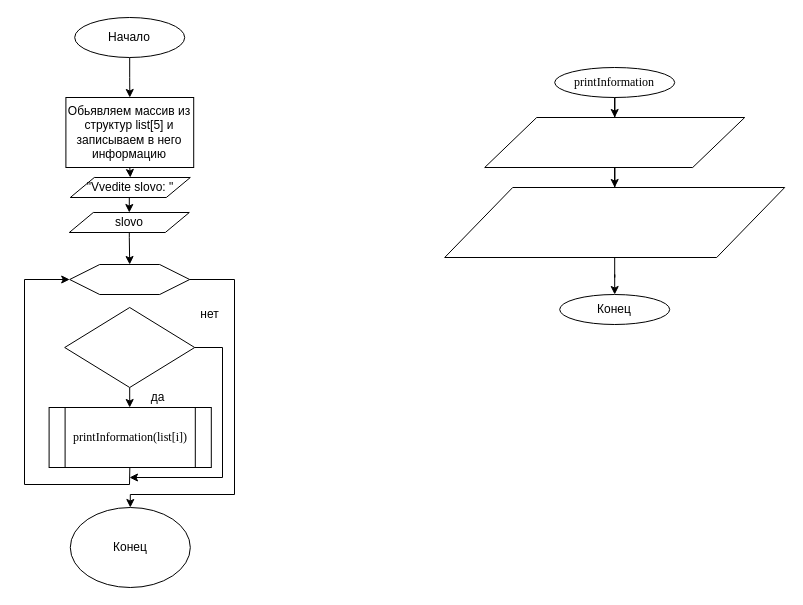
Image size: 803x605. Some labels were removed from this diagram. The centre of each missing label's shape, as x and y in pixels:
"i=0; i<5; i++" goes at pixel 129 279.
"slovo == list[i].name" goes at pixel 129 347.
"Выводим данные структуры в консоль" goes at pixel 614 222.
"Получаем структуру в качестве параметра функции" goes at pixel 614 142.
